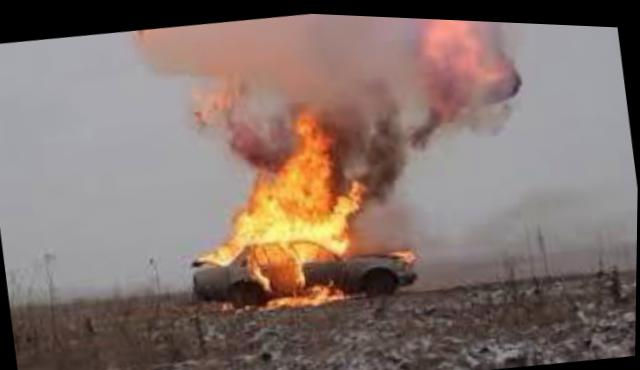fire: (171, 85, 421, 310)
